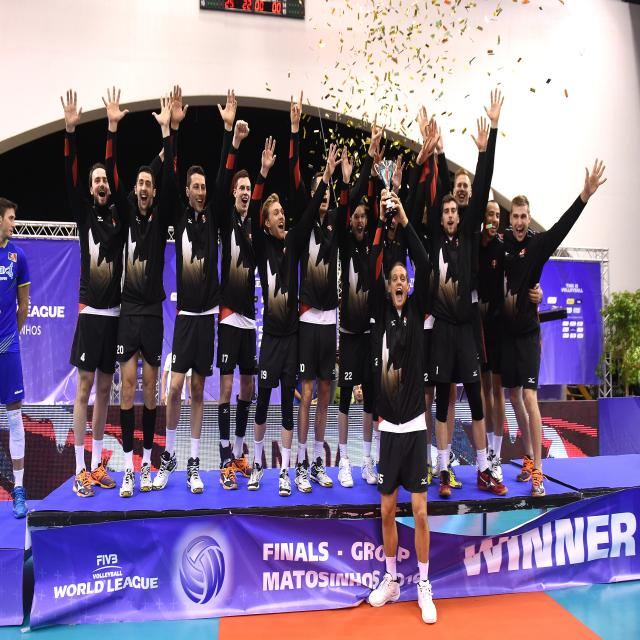body: (288, 88, 387, 497), (492, 157, 608, 499), (151, 83, 239, 496), (245, 135, 344, 498), (101, 85, 176, 498), (368, 188, 438, 626), (58, 82, 127, 500), (421, 114, 495, 478), (433, 115, 501, 489), (336, 144, 406, 490), (469, 199, 544, 484), (418, 114, 465, 490), (214, 119, 260, 492), (367, 136, 437, 301), (0, 195, 32, 520), (160, 353, 192, 406), (293, 379, 318, 406), (351, 383, 364, 405)
